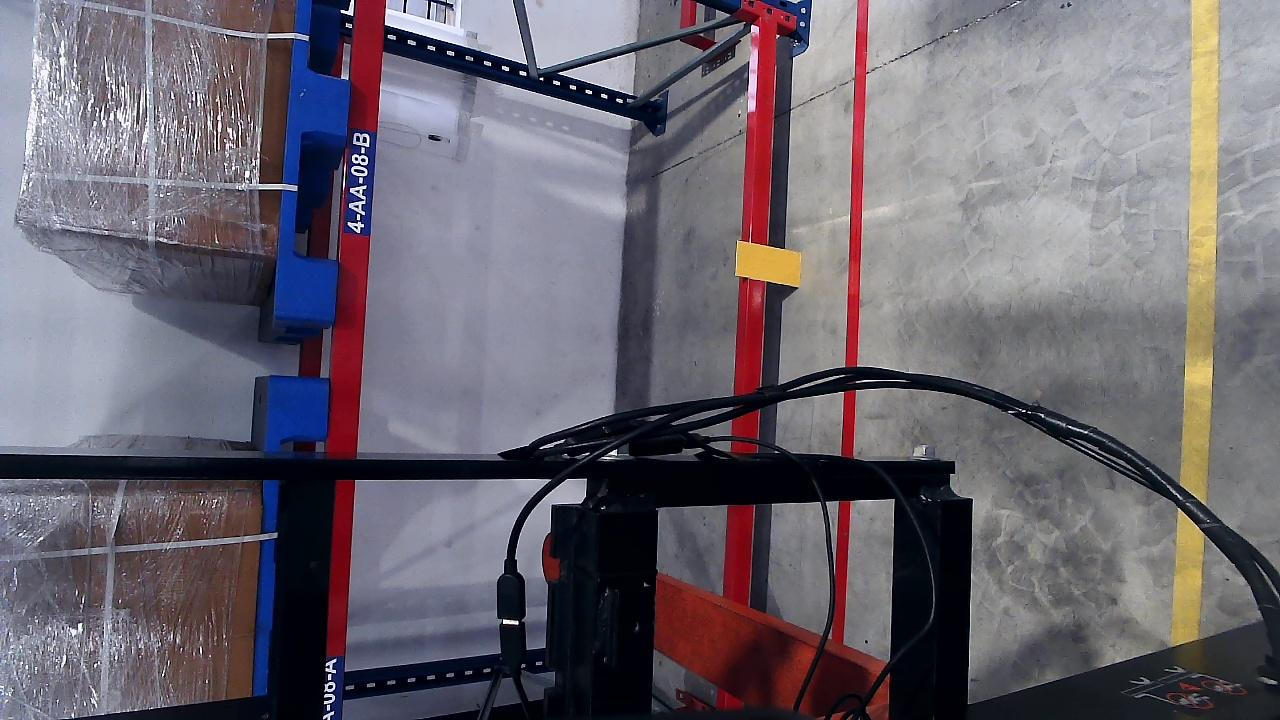h_rack: (323, 0, 392, 454), (737, 13, 780, 393)
orange_strip: (735, 241, 801, 287)
red_line: (843, 3, 868, 367)
small_pallet: (270, 0, 367, 319)
yellow_line: (1179, 2, 1221, 600)
